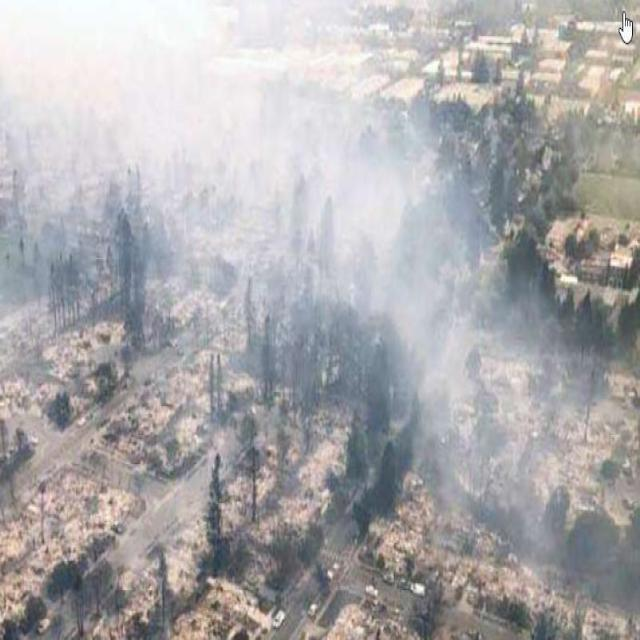Smoke: (0, 0, 591, 550)
